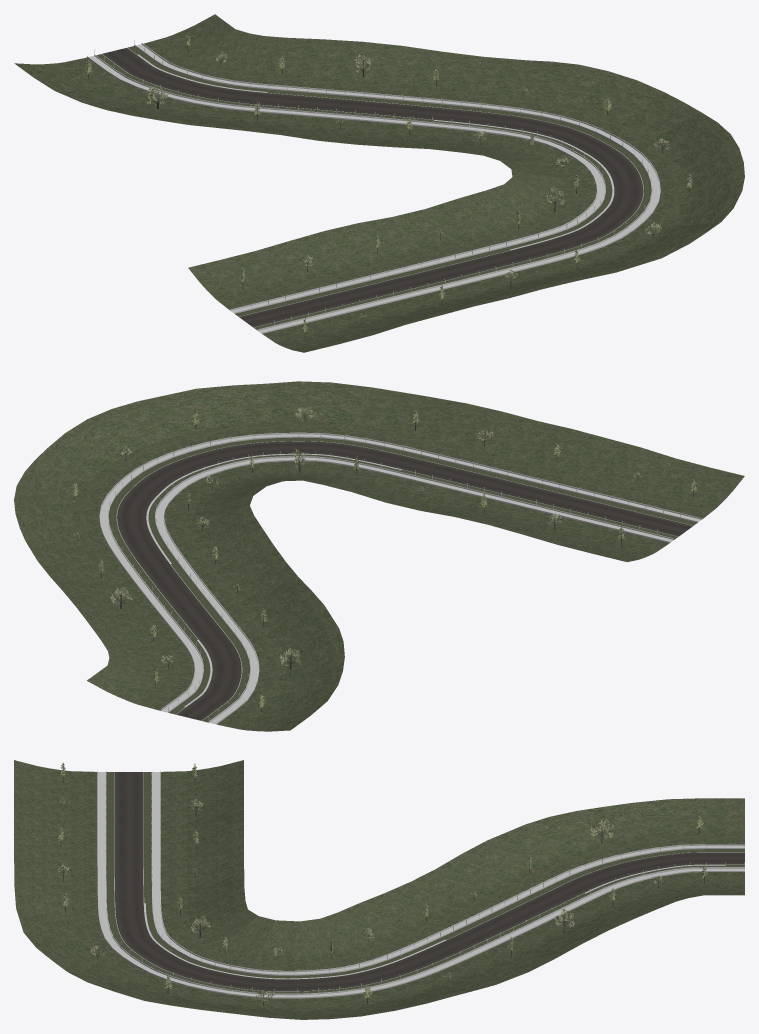
3 views of the same model, one above another, from view 1: azimuth 30°, elevation 25°; view 2: azimuth 150°, elevation 25°; view 3: azimuth 270°, elevation 25° (orthographic). The views are drawn at different scales.
Parts seen in each view (by area): view 1: Grass, Road, Track, Trees; view 2: Grass, Road, Track, Trees; view 3: Grass, Road, Track, Trees.
Boxes of the visible parts, left/top/right/bottom form: Grass: left=14, top=14, right=744, bottom=352; Road: left=102, top=48, right=643, bottom=327; Track: left=87, top=40, right=660, bottom=333; Trees: left=84, top=32, right=692, bottom=338; Grass: left=14, top=381, right=744, bottom=731; Road: left=117, top=441, right=692, bottom=720; Track: left=99, top=432, right=702, bottom=724; Trees: left=71, top=407, right=696, bottom=712; Grass: left=14, top=760, right=744, bottom=1019; Road: left=114, top=772, right=744, bottom=991; Track: left=97, top=770, right=744, bottom=998; Trees: left=56, top=762, right=707, bottom=1005.
Bounding box in the file's own units: 37732 × 1772 × 44500.
